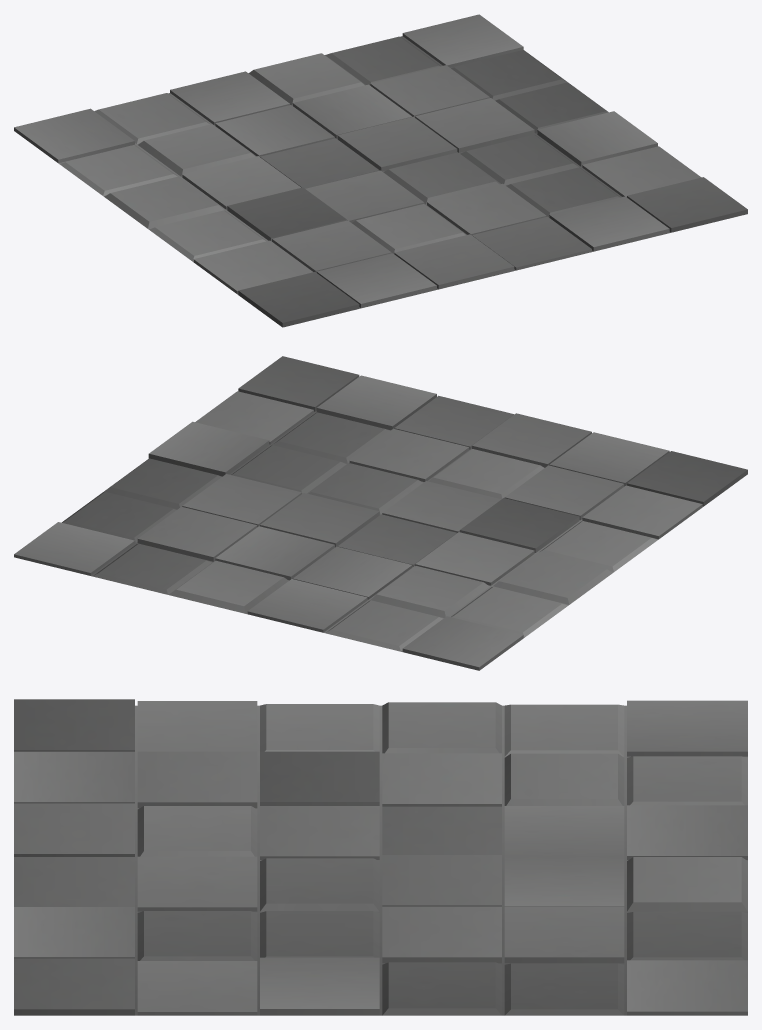
The model's file is Floor.fbx.
3 renders of one model, top to bottom at view 1: azimuth 30°, elevation 25°; view 2: azimuth 150°, elevation 25°; view 3: azimuth 270°, elevation 25°, orthographic. The views are drawn at different scales.
Parts seen in each view (by area): view 1: Floor; view 2: Floor; view 3: Floor.
Part boxes in pixels (bbox=[...]): Floor: bbox=[14, 14, 747, 327]; Floor: bbox=[14, 356, 747, 670]; Floor: bbox=[14, 699, 747, 1015].
Bounding box in the file's own units: 280 × 2.87 × 280.
